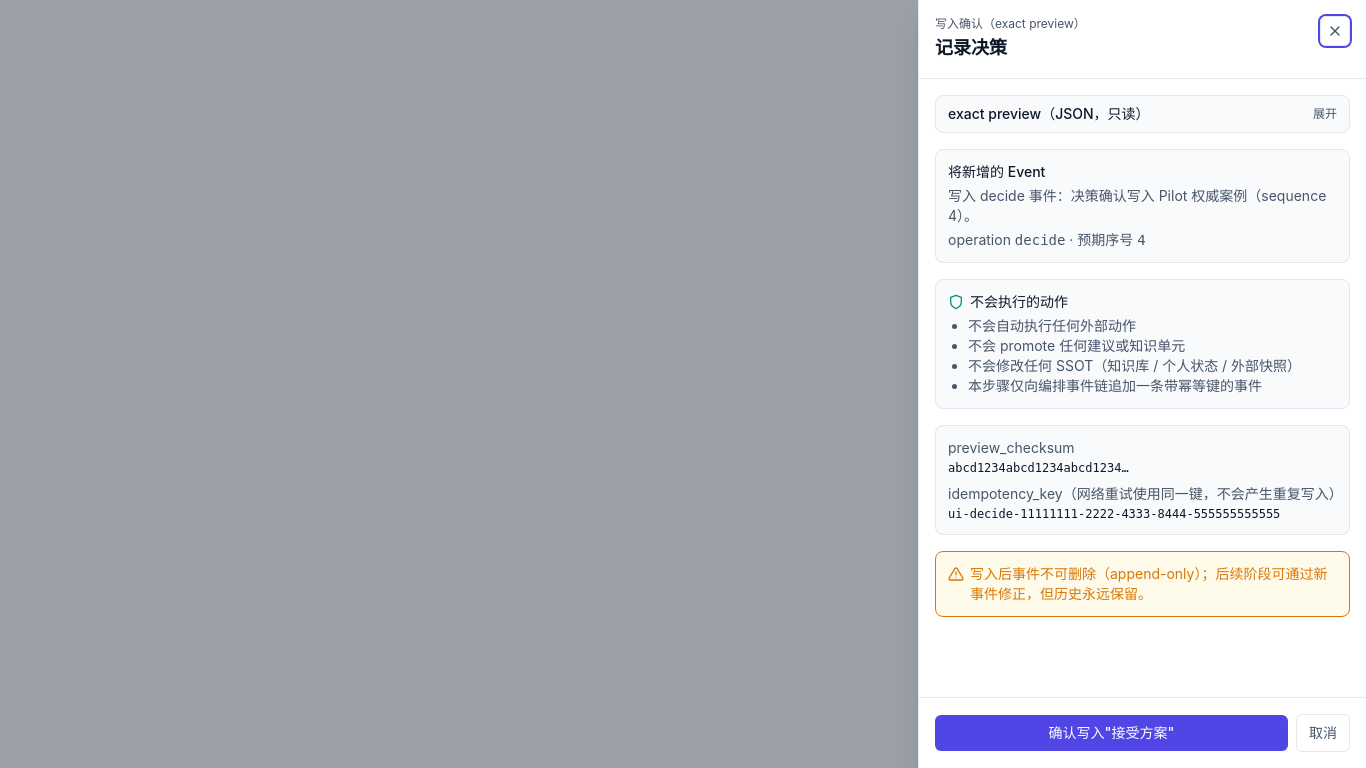
Test: ConfirmDrawer › exact preview 默认折叠，点击展开 JSON 只读视图
expect the text "\"decide\"" is not shown: met
Click the button "exact preview（JSON，只读） 展开" at [1142, 114], box [936,96,1349,132]
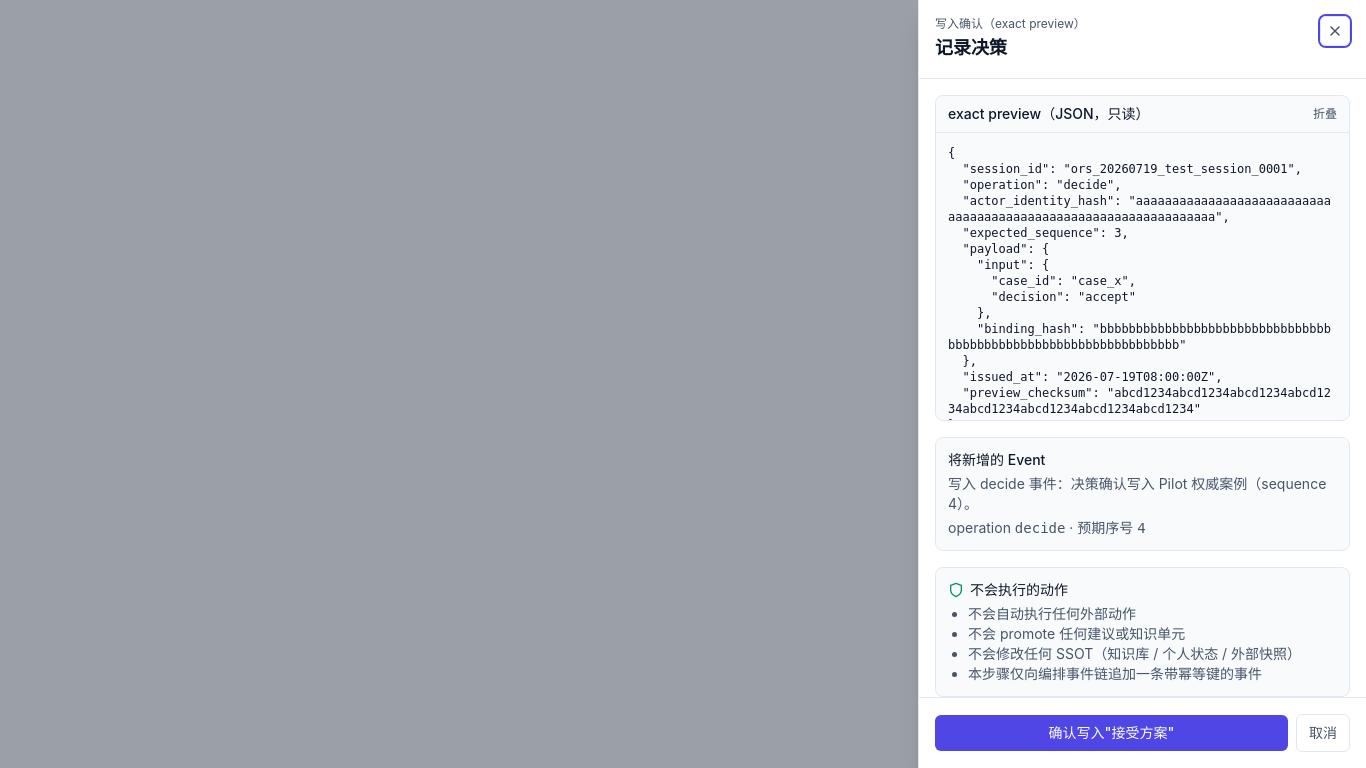
expect the text "\"operation\": \"decide\"" is shown: met, box [948,146,1331,432]
